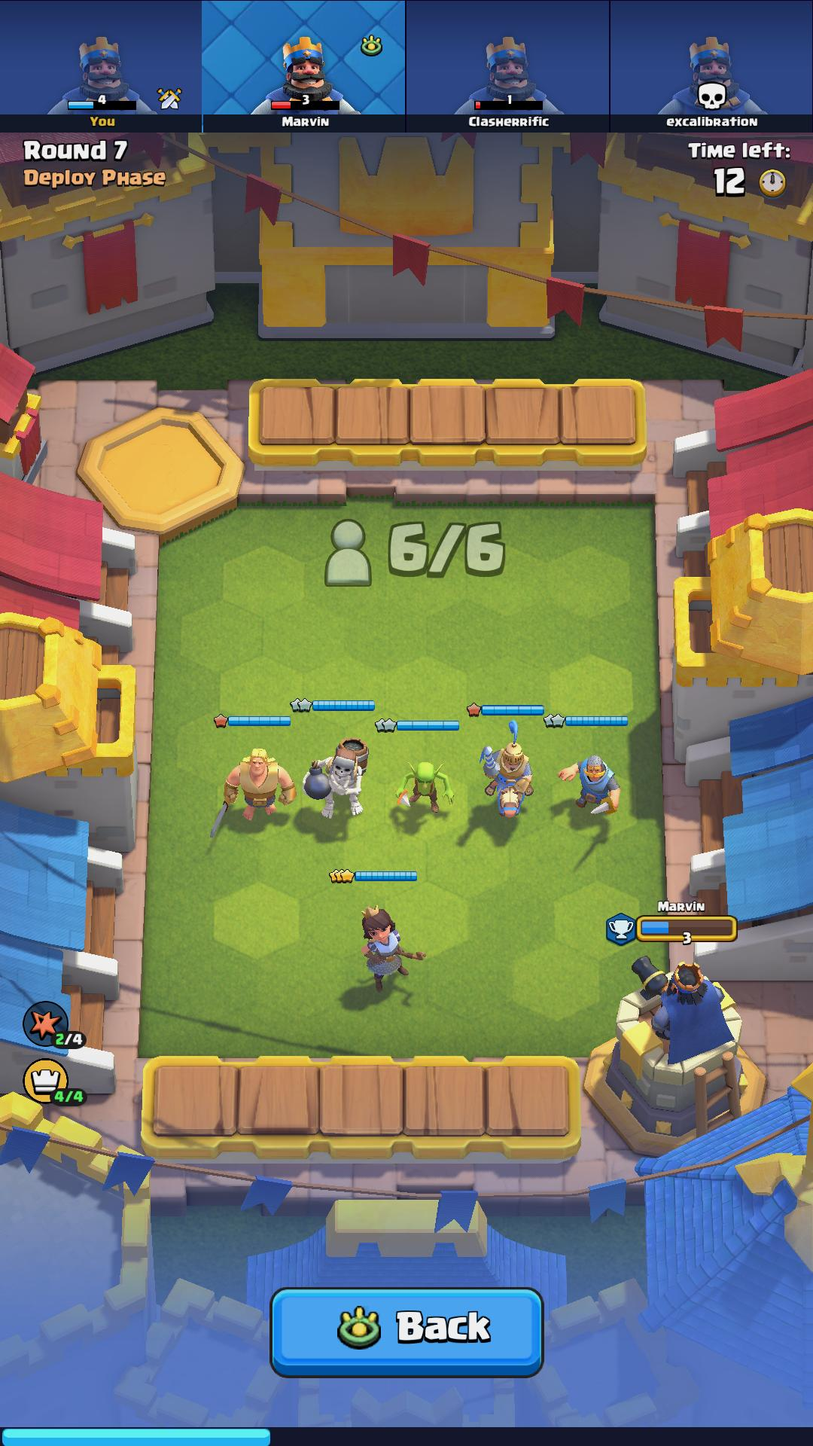giant: (300, 734, 374, 820)
goblin: (388, 752, 459, 821)
golden: (203, 743, 300, 830)
knight: (553, 744, 627, 818)
prince: (469, 724, 543, 826)
princess: (345, 891, 429, 993)
